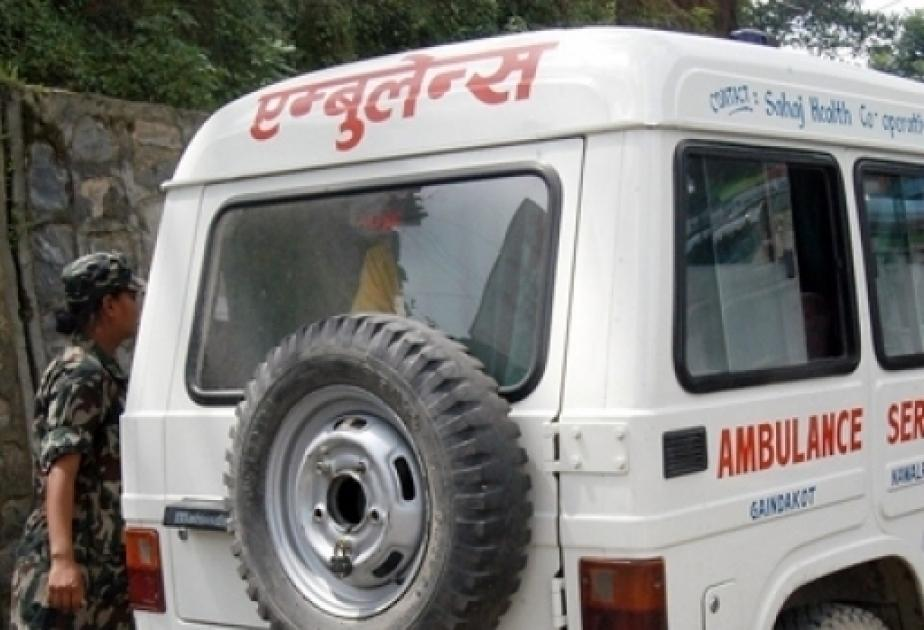ambulance: (125, 28, 924, 630)
